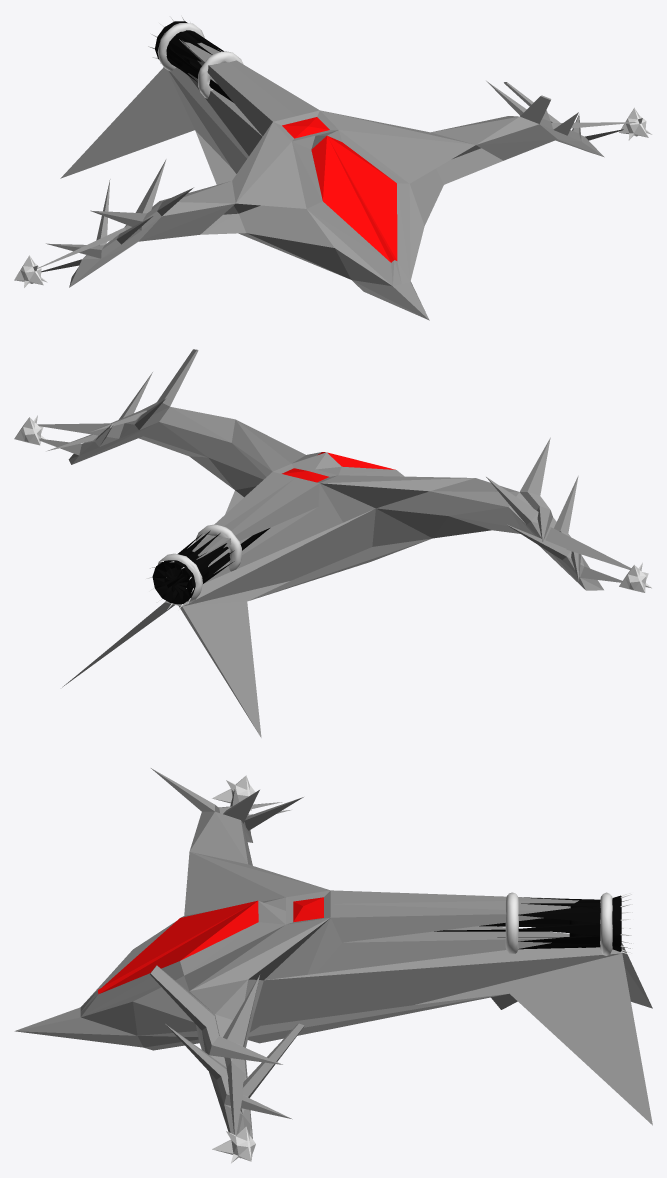
File: Enemy Saphire Ship.FBX
3 renders of one model, top to bottom at view 1: azimuth 30°, elevation 25°; view 2: azimuth 150°, elevation 25°; view 3: azimuth 270°, elevation 25°, orthographic. The views are drawn at different scales.
Parts seen in each view (by area): view 1: Hedra001, Torus006, Torus007, Torus005, Hedra003, Hedra002; view 2: Hedra001, Torus006, Torus007; view 3: Hedra001, Torus006, Hedra002, Torus007, Torus005.
Part boxes in pixels (x1=…): Hedra001: x1=37, y1=39, x2=636, y2=320; Torus006: x1=148, y1=15, x2=233, y2=102; Torus007: x1=198, y1=51, x2=243, y2=98; Torus005: x1=157, y1=23, x2=204, y2=71; Hedra003: x1=14, y1=255, x2=47, y2=287; Hedra002: x1=619, y1=108, x2=652, y2=140; Hedra001: x1=37, y1=349, x2=631, y2=737; Torus006: x1=146, y1=528, x2=269, y2=609; Torus007: x1=195, y1=524, x2=241, y2=571; Hedra001: x1=14, y1=768, x2=652, y2=1138; Torus006: x1=434, y1=893, x2=632, y2=954; Hedra002: x1=212, y1=1126, x2=255, y2=1163; Torus007: x1=505, y1=892, x2=518, y2=953; Torus005: x1=600, y1=892, x2=612, y2=955.
Bounding box in the file's own units: 91.8 × 23.57 × 67.69.
